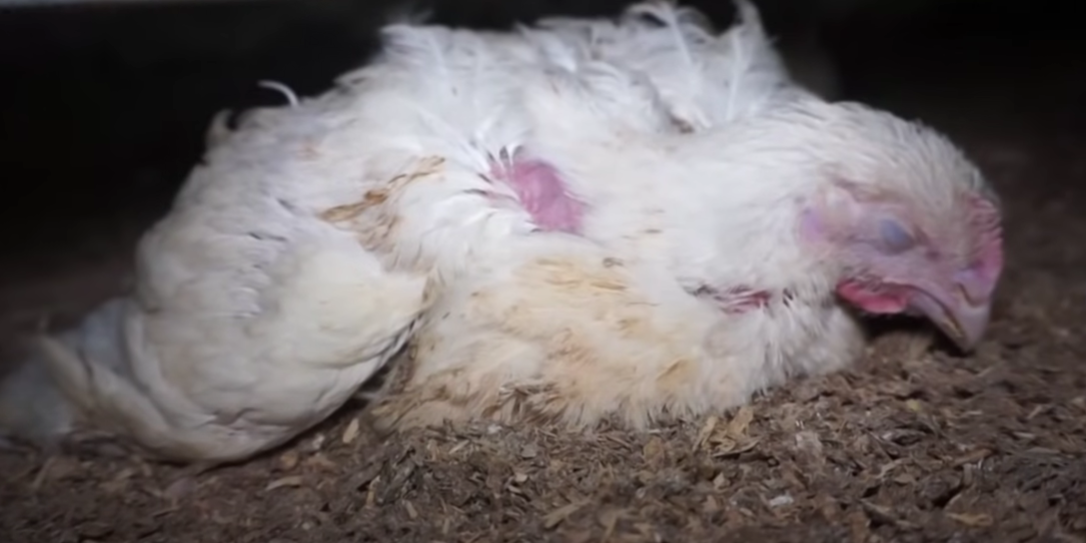Unhealthy: (37, 31, 1016, 445)
